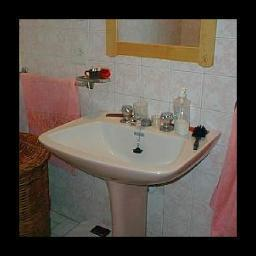Lavamanos: (38, 112, 220, 183)
